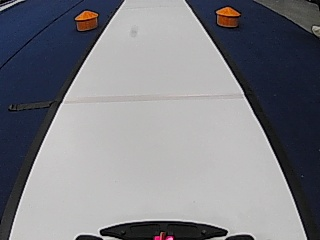granary: (215, 5, 241, 29), (73, 8, 98, 32)
